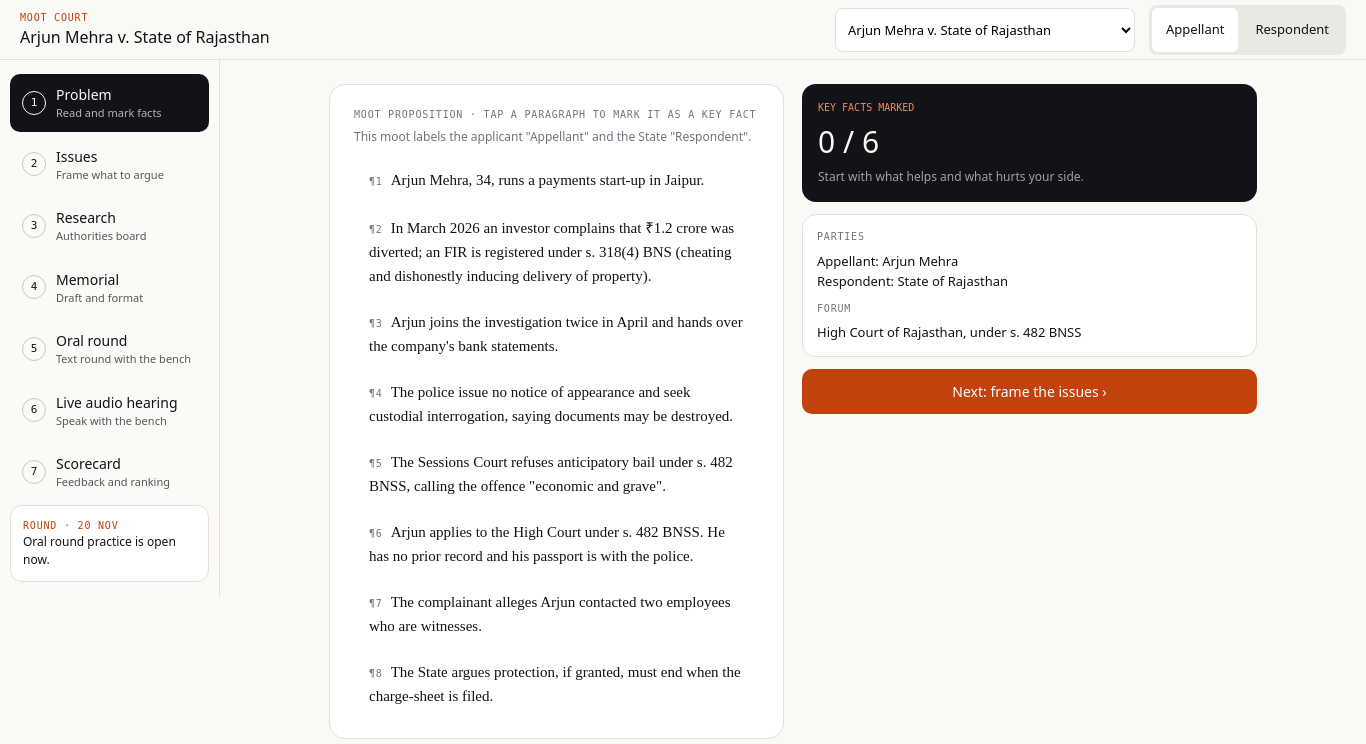
Test case: stage completion ticks the rail › Memorial: rule checks, index and issues fill from earlier stages, draft button, export
The image size is (1366, 744).
Click the button "4 Memorial Draft and format": {"x": 110, "y": 287} [10,258,209,316]
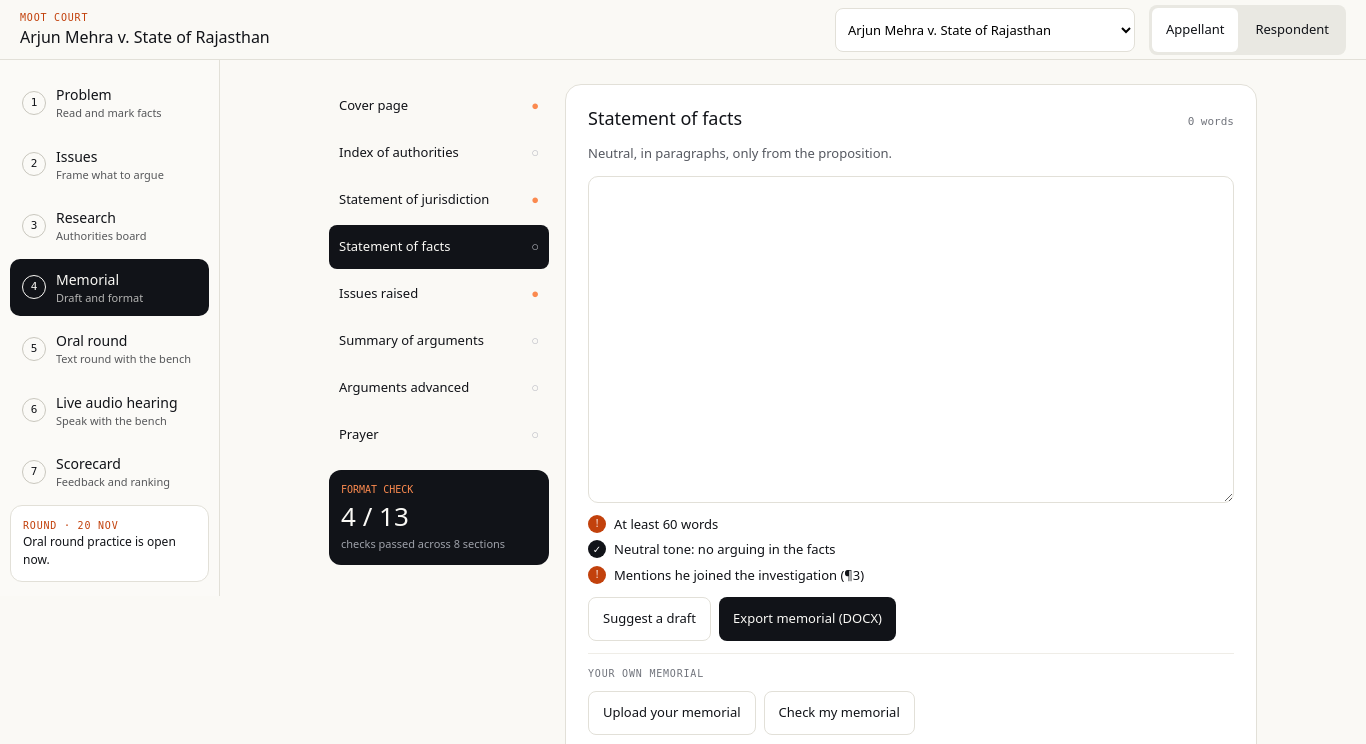
Check: the text "FORMAT CHECK" is shown, box [341,484,413,495]
Check: the list item "At least 60 words" is shown, box [614,514,718,532]
Click the button "Suggest a draft": {"x": 650, "y": 619} [588,597,711,641]
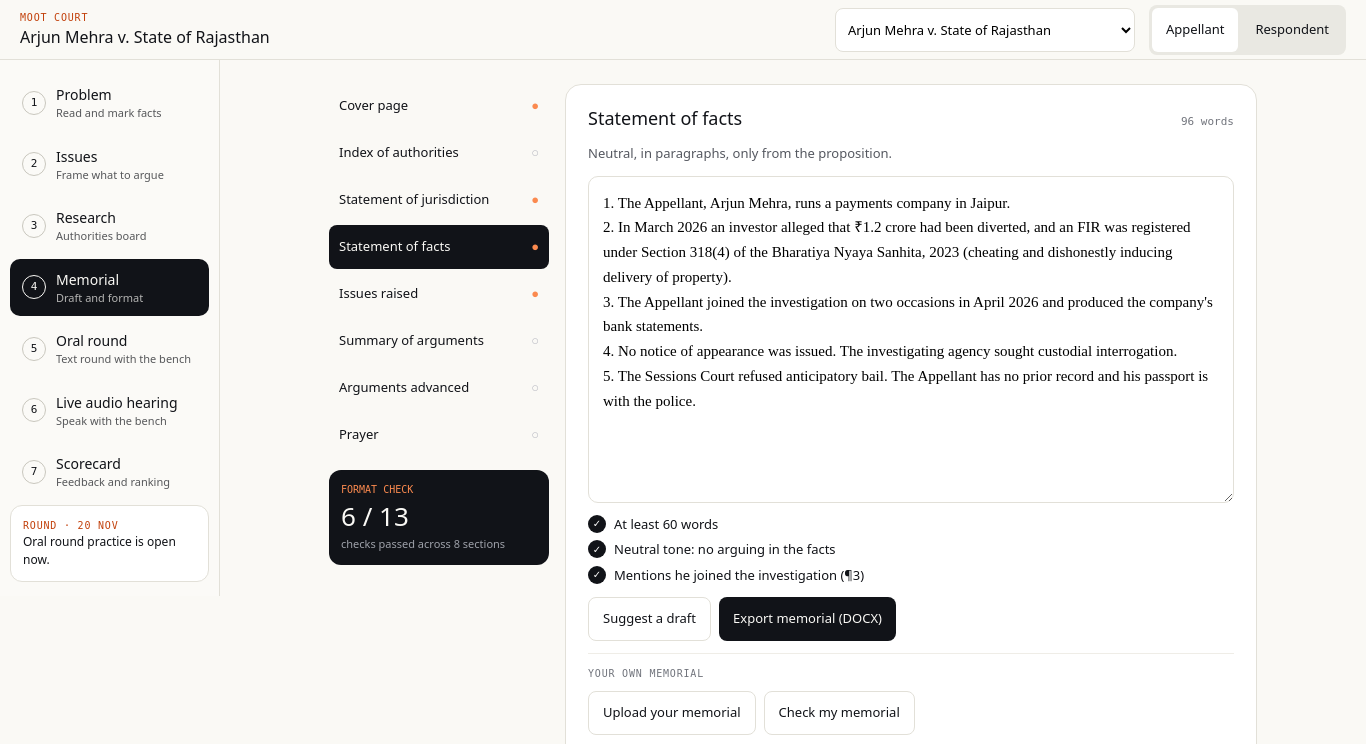
Click the button "Index of authorities ○": {"x": 439, "y": 153} [329,131,549,175]
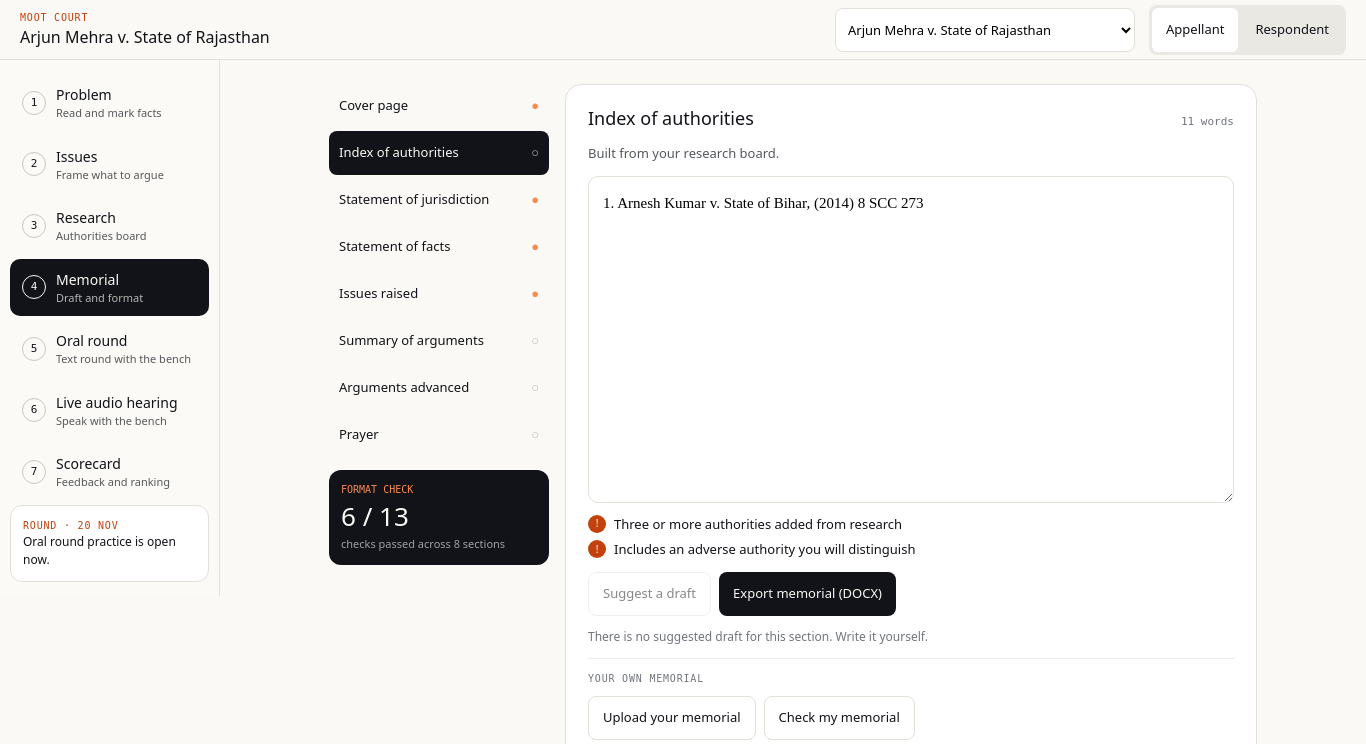
Check: the text box named "Index of authorities" holds "1. Arnesh Kumar v. State of Bihar, (2014) 8 SCC 273", box [588,176,1234,502]
Check: the list item "Includes an adverse authority you will distinguish" is shown, box [614,540,916,558]
Click the button "Issues raised ●": {"x": 439, "y": 294} [329,272,549,316]
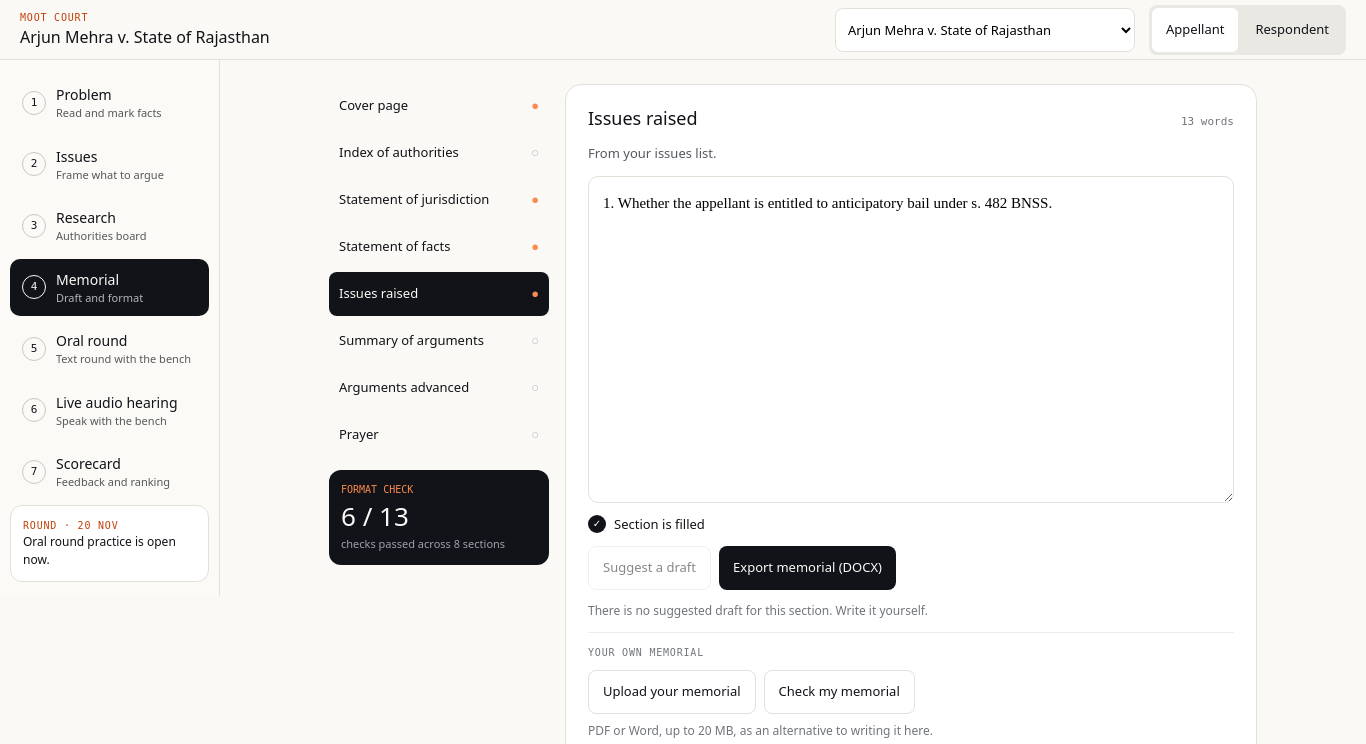
Click the button "Export memorial (DOCX)": {"x": 808, "y": 568} [719,546,896,590]
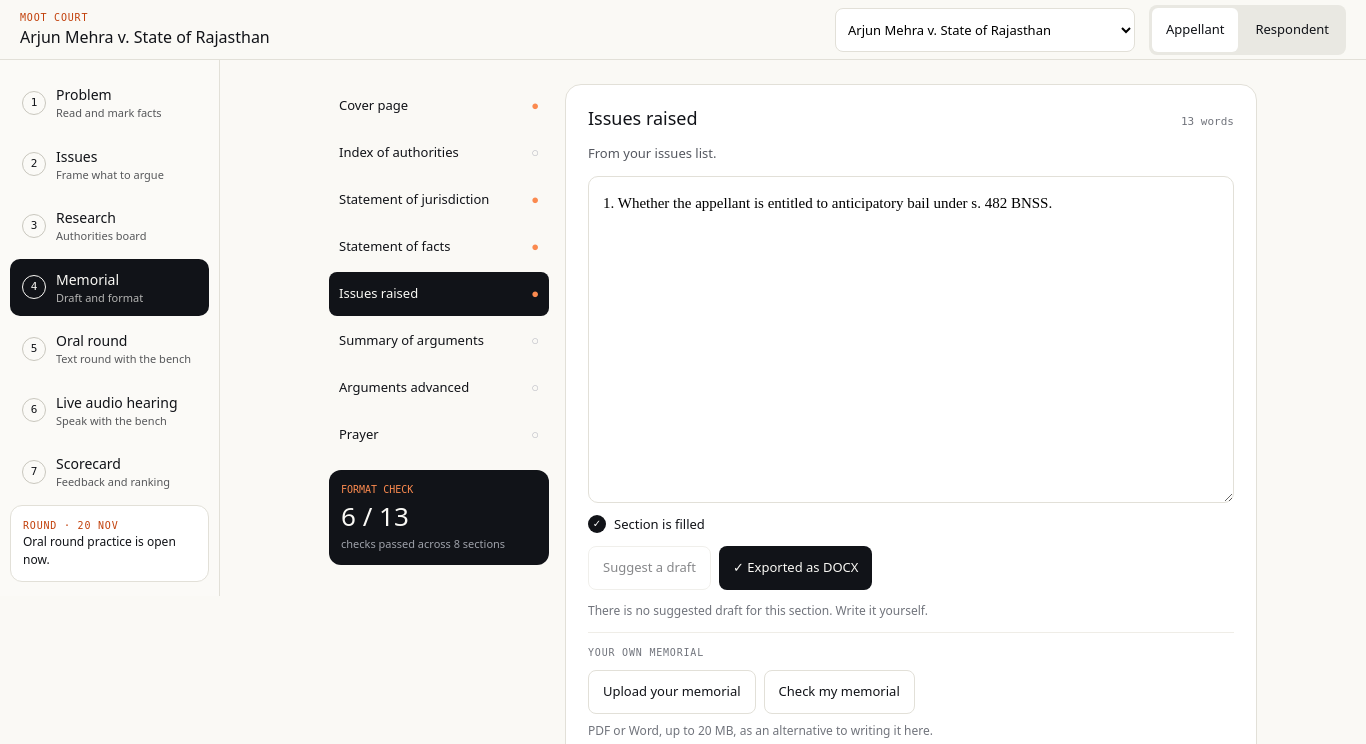
Check: the button "✓ Exported as DOCX" is shown, box [719,546,872,590]
